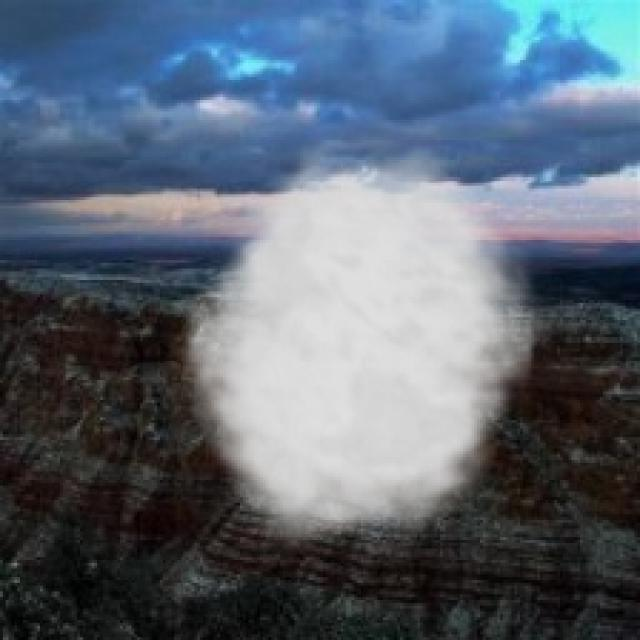Smoke: (172, 140, 554, 560)
